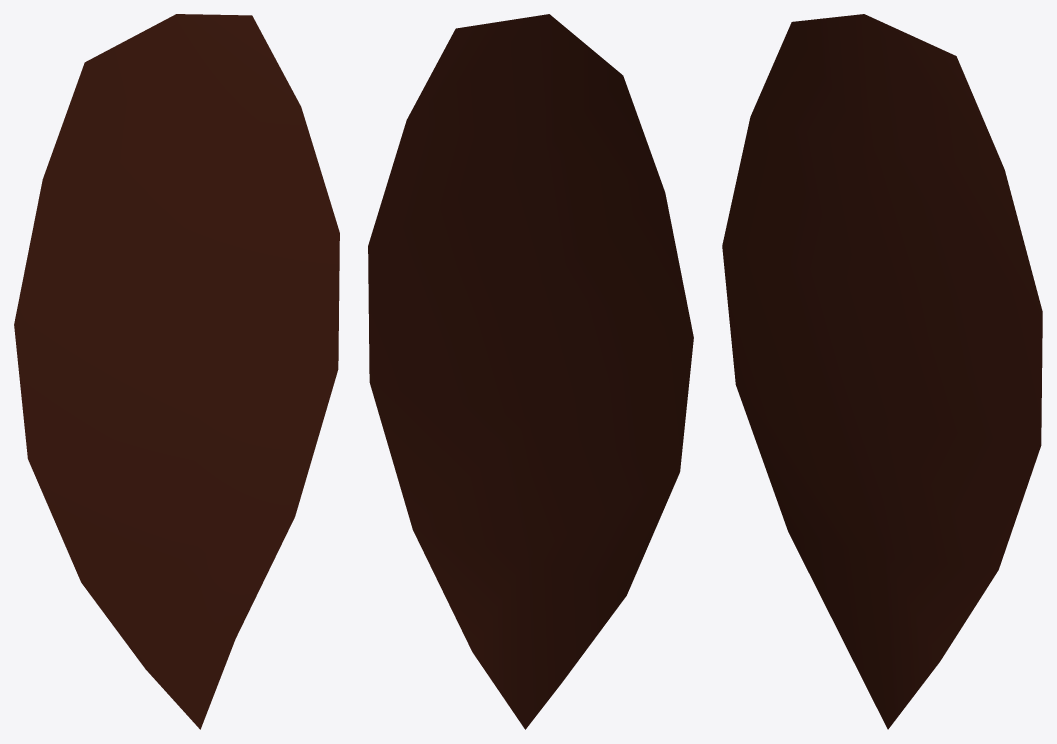
File: rooster_feather_flight_tertiary_006.obj
3 renders of one model, left to right at view 1: azimuth 30°, elevation 25°; view 2: azimuth 150°, elevation 25°; view 3: azimuth 330°, elevation 25°, orthographic.
Parts seen in each view (by area): view 1: feather_flight_tertiary_006; view 2: feather_flight_tertiary_006; view 3: feather_flight_tertiary_006.
Boxes of the visible parts, x1,y1,x2,y2 form: feather_flight_tertiary_006: [14, 14, 339, 729]; feather_flight_tertiary_006: [368, 14, 693, 729]; feather_flight_tertiary_006: [722, 14, 1042, 729].
Size of the model in its own units: 0.0105 by 0.0223 by 0.000501.
